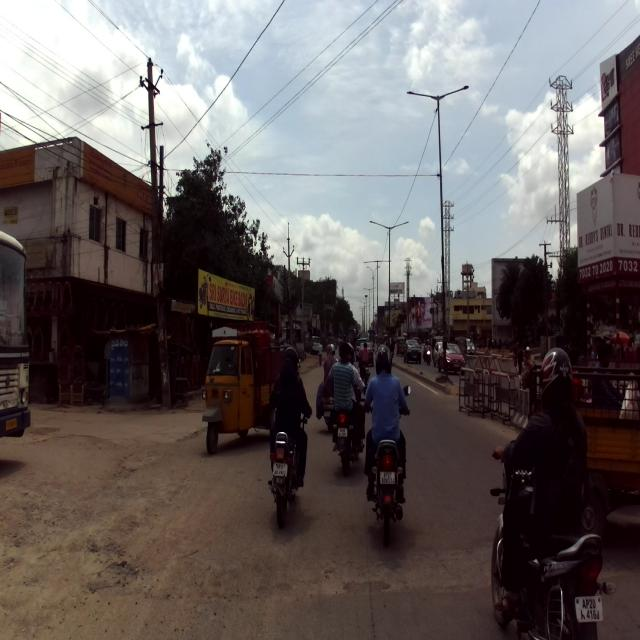autorickshaw: (568, 362, 640, 536), (203, 319, 293, 456)
motorcycle_Hero: (366, 382, 412, 537), (334, 377, 366, 475)
motorcycle_bajaj: (491, 439, 616, 638)
